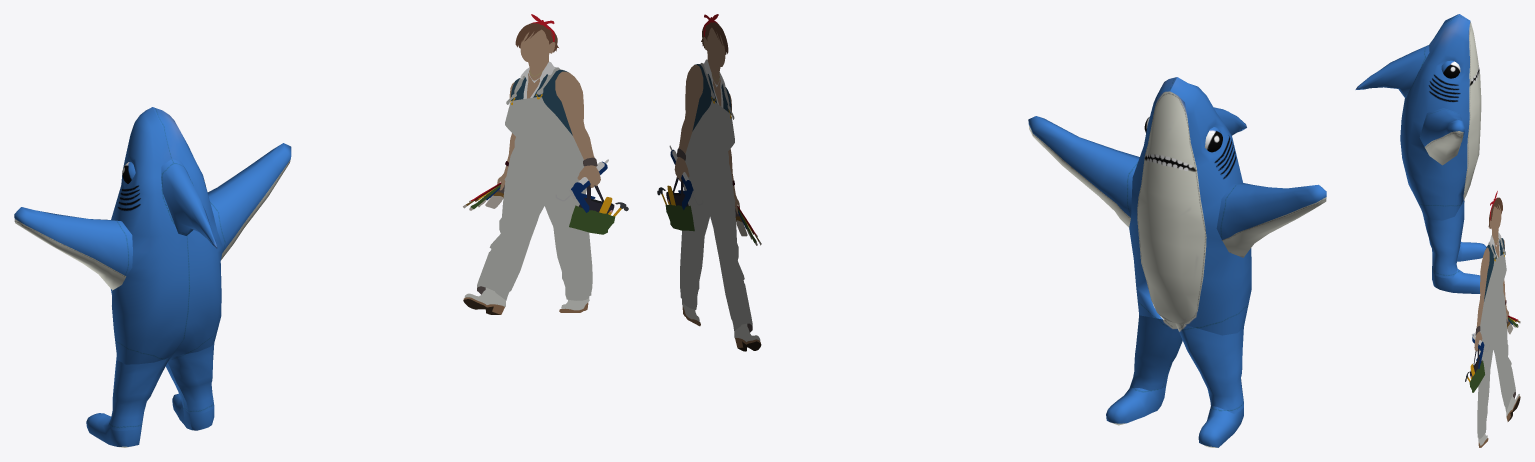
The picture shows the model from 3 angles, left to right: view 1: azimuth 30°, elevation 25°; view 2: azimuth 150°, elevation 25°; view 3: azimuth 270°, elevation 25°; orthographic projection. The views are drawn at different scales.
Visible parts, largest first — view 1: group_7, Lisanne (×5); view 2: group_7, Lisanne (×3); view 3: group_7 (×2), Lisanne (×5).
Boxes of the visible parts, x1=… form: group_7: x1=14, y1=107, x2=291, y2=447; Lisanne (×5): x1=477, y1=29, x2=615, y2=300; group_7: x1=1028, y1=77, x2=1326, y2=447; Lisanne (×3): x1=678, y1=27, x2=752, y2=330; group_7 (×2): x1=1355, y1=14, x2=1486, y2=293; Lisanne (×5): x1=1469, y1=204, x2=1515, y2=439.
Size of the model in its own units: 144 by 41.42 by 72.05.
24 materials, 1 textured.
